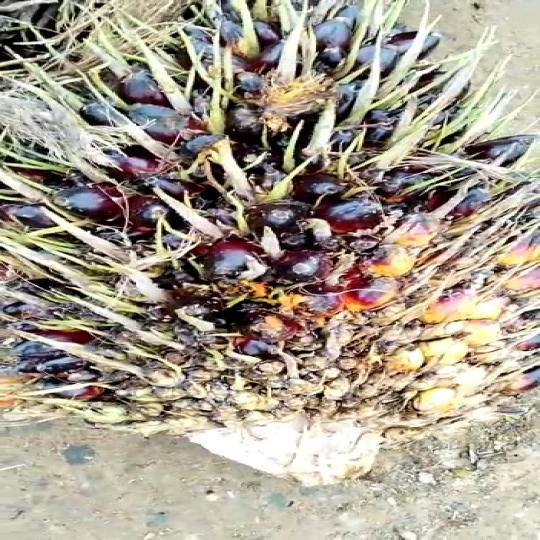mentah: (3, 0, 539, 496)
